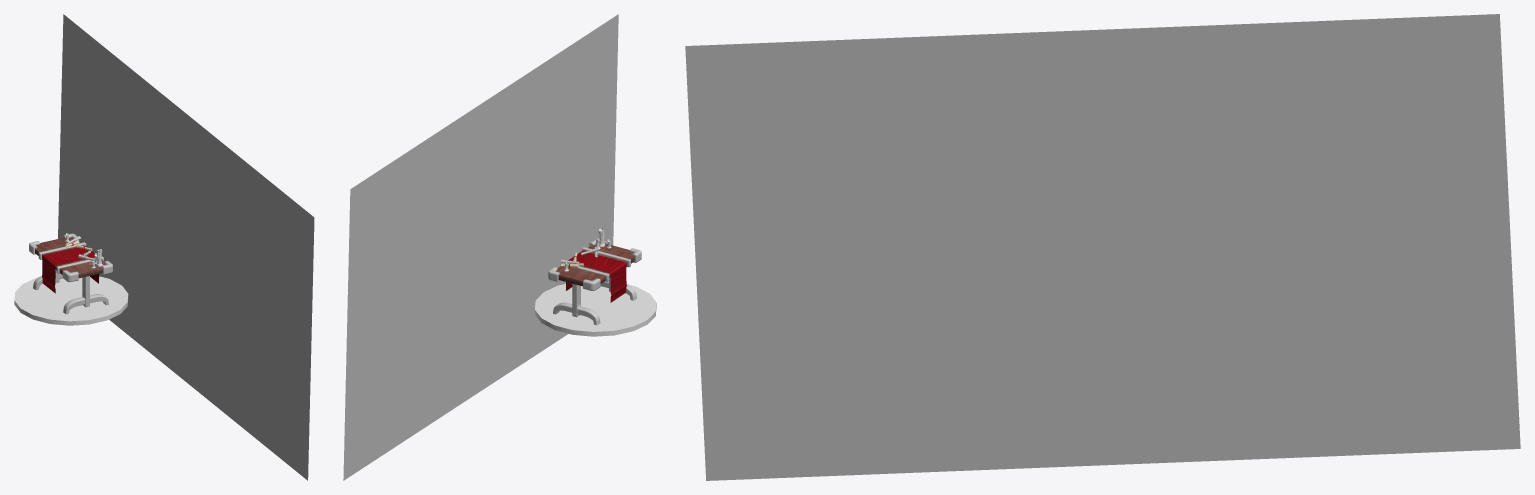
The model's file is annaTest.FBX.
3 views of the same model, side by side, from view 1: azimuth 30°, elevation 25°; view 2: azimuth 150°, elevation 25°; view 3: azimuth 270°, elevation 25° (orthographic). The views are drawn at different scales.
Parts seen in each view (by area): view 1: Plane001, Cylinder012, Box012, Box004, Box011, Box006; view 2: Plane001, Cylinder012, Box012, Box004, Box011, Box006; view 3: Plane001.
Boxes of the visible parts, left/top/right/bottom form: Plane001: left=58, top=14, right=314, bottom=480; Cylinder012: left=14, top=276, right=128, bottom=325; Box012: left=42, top=246, right=99, bottom=293; Box004: left=35, top=237, right=105, bottom=278; Box011: left=33, top=270, right=108, bottom=314; Box006: left=29, top=233, right=112, bottom=282; Plane001: left=343, top=14, right=618, bottom=480; Cylinder012: left=535, top=284, right=656, bottom=336; Box012: left=566, top=251, right=626, bottom=302; Box004: left=556, top=243, right=634, bottom=286; Box011: left=553, top=278, right=636, bottom=325; Box006: left=548, top=239, right=641, bottom=290; Plane001: left=685, top=14, right=1520, bottom=480.
Size of the model in its own units: 654 by 1122 by 1818.
